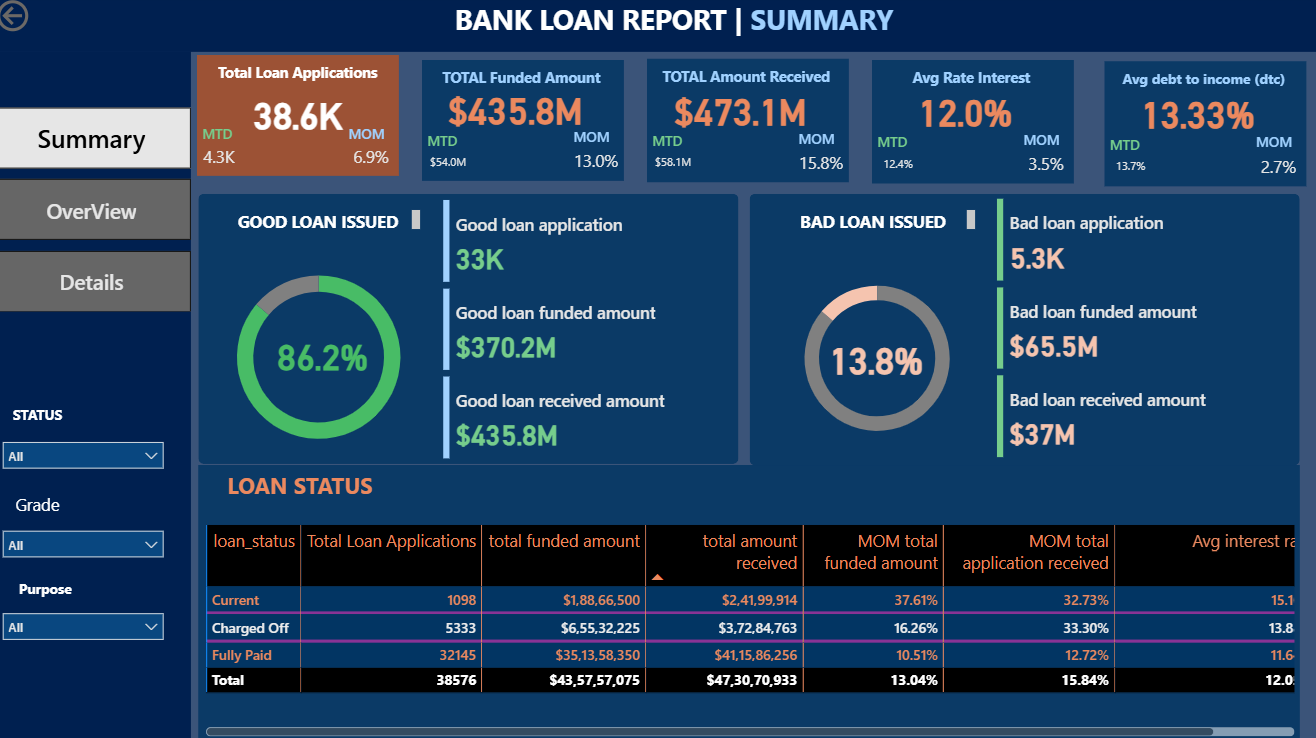

The dashboard page shown, as its layout file describes it:
{"tool":"powerbi","page":{"name":"Summary","canvas":[1280,720],"ordinal":0},"visuals":[{"type":"shape","box":[197.6,57.6,194.9,116.6],"z":0,"group":"g8"},{"type":"shape","box":[631.9,61.7,194.8,119.4],"z":0,"group":"g10"},{"type":"shape","box":[414.8,63.1,194.9,116.6],"z":0,"group":"g9"},{"type":"shape","box":[849.1,63.1,194.8,119.4],"z":0,"group":"g11"},{"type":"shape","box":[1073.1,64.5,194.8,120.8],"z":0,"group":"g12"},{"type":"shape","box":[731.4,192.1,531,262.1],"z":0},{"type":"card","fields":{"Values":["Bank_loan_db.total amount received"]},"box":[625,85.6,194.8,49.2],"z":1000,"group":"g1"},{"type":"card","fields":{"Values":["Bank_loan_db.total funded amount"]},"box":[407.9,86.4,194.9,48],"z":1000,"group":"g2"},{"type":"card","fields":{"Values":["Bank_loan_db.Avg interest rate"]},"box":[842.2,87,194.8,49.2],"z":1000,"group":"g3"},{"type":"card","fields":{"Values":["Bank_loan_db.Avg dti"]},"box":[1066.2,88.6,194.8,49.7],"z":1000,"group":"g4"},{"type":"card","fields":{"Values":["Bank_loan_db.Total Loan Applications"]},"box":[197.6,90.5,194.9,48],"z":1000,"group":"g8"},{"type":"shape","box":[199,454.2,1063.5,266.2],"z":1000},{"type":"textbox","box":[194.9,60.3,199,30.2],"z":2000,"group":"g8"},{"type":"textbox","box":[629.1,64.5,199,30.9],"z":2000,"group":"g10"},{"type":"textbox","box":[412,65.8,199,30.2],"z":2000,"group":"g9"},{"type":"textbox","box":[846.3,65.9,199,30.9],"z":2000,"group":"g11"},{"type":"textbox","box":[1070.3,67.3,199,31.3],"z":2000,"group":"g12"},{"type":"card","fields":{"Values":["Bank_loan_db.Bad loan %"]},"box":[800,329.3,107,42.5],"z":2000},{"type":"card","title":"MTD","fields":{"Values":["Bank_loan_db.MTD Loan applications"]},"box":[197.6,123.5,42.5,50.8],"z":3000,"group":"g8"},{"type":"card","title":"MTD","fields":{"Values":["Bank_loan_db.MTD funded amount"]},"box":[415.1,131.7,50.8,46.7],"z":3000,"group":"g2"},{"type":"card","title":"MTD","fields":{"Values":["Bank_loan_db.MTD total amount received"]},"box":[632.2,131.9,50.8,47.8],"z":3000,"group":"g5"},{"type":"card","title":"MTD","fields":{"Values":["Bank_loan_db.MTD avg int rate"]},"box":[849.4,133.3,50.8,47.8],"z":3000,"group":"g6"},{"type":"card","title":"MTD","fields":{"Values":["Bank_loan_db.MTD avg dti"]},"box":[1073.4,135.4,50.8,48.3],"z":3000,"group":"g7"},{"type":"donutChart","fields":{"Category":["Bank_loan_db.Good v/s Bad Loan"],"Y":["Bank_loan_db.Total Loan Applications"]},"box":[742.4,258,225,185.2],"z":3000},{"type":"card","title":"MOM","fields":{"Values":["Bank_loan_db.MOM loan application"]},"box":[339,123.5,53.5,50.8],"z":4000,"group":"g8"},{"type":"card","title":"MOM","fields":{"Values":["Bank_loan_db.MOM total funded amount"]},"box":[556.1,128.9,53.5,50.8],"z":4000,"group":"g2"},{"type":"card","title":"MOM","fields":{"Values":["Bank_loan_db.MOM total application received"]},"box":[773.3,129.1,53.5,52],"z":4000,"group":"g5"},{"type":"card","title":"MOM","fields":{"Values":["Bank_loan_db.MOM avg int rate"]},"box":[990.5,130.5,53.5,52],"z":4000,"group":"g6"},{"type":"card","title":"MOM","fields":{"Values":["Bank_loan_db.MOM avg dti"]},"box":[1214.5,132.6,53.5,52.6],"z":4000,"group":"g7"},{"type":"shape","box":[199,192.1,521.4,260.7],"z":4000},{"type":"group","id":"g1","title":"Group 2","box":[625,85.6,201.7,95.5],"z":4001,"group":"g10"},{"type":"group","id":"g2","title":"Group 2","box":[407.9,86.4,201.7,93.3],"z":4001,"group":"g9"},{"type":"group","id":"g3","title":"Group 2","box":[842.2,87,201.7,95.5],"z":4001,"group":"g11"},{"type":"group","id":"g4","title":"Group 2","box":[1066.2,88.6,201.7,96.6],"z":4001,"group":"g12"},{"type":"group","id":"g5","title":"Group 3","box":[632.2,129.1,194.6,52],"z":4002,"group":"g1"},{"type":"group","id":"g6","title":"Group 3","box":[849.4,130.5,194.6,52],"z":4002,"group":"g3"},{"type":"group","id":"g7","title":"Group 3","box":[1073.4,132.6,194.6,52.6],"z":4002,"group":"g4"},{"type":"shape","box":[0,0,1280.3,54.9],"z":5000},{"type":"shape","box":[0,54.9,192.1,665.5],"z":6000},{"type":"textbox","box":[219.6,203.1,199,30.2],"z":7000},{"type":"card","fields":{"Values":["Bank_loan_db.Good loan %"]},"box":[263.5,323.8,112.5,48],"z":8000},{"type":"textbox","box":[441.9,0,439.1,50.8],"z":9000},{"type":"group","id":"g8","title":"Group 1","box":[194.9,57.6,199,116.6],"z":10000},{"type":"group","id":"g9","title":"Group 1","box":[407.9,63.1,203.1,116.6],"z":11000},{"type":"group","id":"g10","title":"Group 1","box":[625,61.7,203.1,119.4],"z":12000},{"type":"group","id":"g11","title":"Group 1","box":[842.2,63.1,203.1,119.4],"z":13000},{"type":"group","id":"g12","title":"Group 1","box":[1066.2,64.5,203.1,120.8],"z":14000},{"type":"donutChart","fields":{"Category":["Bank_loan_db.Good v/s Bad Loan"],"Y":["Bank_loan_db.Total Loan Applications"]},"box":[190.7,245.6,249.7,207.2],"z":15000},{"type":"cardVisual","fields":{"Data":["Bank_loan_db.Good loan application","Bank_loan_db.Good loan funded amount","Bank_loan_db.Good loan received amount"]},"box":[430.9,193.5,289.5,259.3],"z":16000},{"type":"cardVisual","fields":{"Data":["Bank_loan_db.Bad loan application","Bank_loan_db.Bad loan funded amount","Bank_loan_db.Bad loan received amount"]},"box":[964.7,192.1,289.5,259.3],"z":17000},{"type":"textbox","box":[754.7,203.1,199,30.2],"z":18000},{"type":"tableEx","fields":{"Values":["Bank_loan_db.loan_status","Bank_loan_db.Total Loan Applications","Bank_loan_db.total funded amount","Bank_loan_db.total amount received","Bank_loan_db.MOM total funded amount","Bank_loan_db.MOM total application received","Bank_loan_db.Avg interest rate","Bank_loan_db.Avg dti"]},"box":[200.3,506.3,1062.1,214.1],"z":19000},{"type":"actionButton","box":[0,0,100,40],"z":20000},{"type":"textbox","box":[197.6,454.2,199,41.2],"z":21000},{"type":"slicer","fields":{"Values":["Bank_loan_db.address_state"]},"box":[0,421.3,175.6,53.5],"z":22000},{"type":"textbox","box":[0,391.1,87.8,30.2],"z":23000},{"type":"slicer","fields":{"Values":["Bank_loan_db.grade"]},"box":[0,506.3,175.6,53.5],"z":24000},{"type":"textbox","box":[0,474.8,87.8,31.6],"z":25000},{"type":"slicer","fields":{"Values":["Bank_loan_db.purpose"]},"box":[0,585.9,175.6,53.5],"z":26000},{"type":"textbox","box":[5.5,558.5,90.6,28.8],"z":27000},{"type":"pageNavigator","box":[0,108.4,192.1,197.6],"z":28000}]}

Visuals, with their boxes in screenshot pixels (x1, y1, x2, y2), scaled from the page's 1280x720 canvas onto the 1316x738 screenshot:
shape: bbox(203, 59, 404, 179)
shape: bbox(650, 63, 850, 186)
shape: bbox(426, 65, 627, 184)
shape: bbox(873, 65, 1073, 187)
shape: bbox(1103, 66, 1304, 190)
shape: bbox(752, 197, 1298, 466)
card - Bank_loan_db.total amount received: bbox(643, 88, 843, 138)
card - Bank_loan_db.total funded amount: bbox(419, 89, 620, 138)
card - Bank_loan_db.Avg interest rate: bbox(866, 89, 1066, 140)
card - Bank_loan_db.Avg dti: bbox(1096, 91, 1296, 142)
card - Bank_loan_db.Total Loan Applications: bbox(203, 93, 404, 142)
shape: bbox(205, 466, 1298, 737)
textbox: bbox(200, 62, 405, 93)
textbox: bbox(647, 66, 851, 98)
textbox: bbox(424, 67, 628, 98)
textbox: bbox(870, 68, 1075, 99)
textbox: bbox(1100, 69, 1305, 101)
card - Bank_loan_db.Bad loan %: bbox(822, 338, 933, 381)
"MTD" card: bbox(203, 127, 247, 179)
"MTD" card: bbox(427, 135, 479, 183)
"MTD" card: bbox(650, 135, 702, 184)
"MTD" card: bbox(873, 137, 926, 186)
"MTD" card: bbox(1104, 139, 1156, 188)
donutChart - Bank_loan_db.Good v/s Bad Loan x Bank_loan_db.Total Loan Applications: bbox(763, 264, 995, 454)
"MOM" card: bbox(349, 127, 404, 179)
"MOM" card: bbox(572, 132, 627, 184)
"MOM" card: bbox(795, 132, 850, 186)
"MOM" card: bbox(1018, 134, 1073, 187)
"MOM" card: bbox(1249, 136, 1304, 190)
shape: bbox(205, 197, 741, 464)
"Group 2" group: bbox(643, 88, 850, 186)
"Group 2" group: bbox(419, 89, 627, 184)
"Group 2" group: bbox(866, 89, 1073, 187)
"Group 2" group: bbox(1096, 91, 1304, 190)
"Group 3" group: bbox(650, 132, 850, 186)
"Group 3" group: bbox(873, 134, 1073, 187)
"Group 3" group: bbox(1104, 136, 1304, 190)
shape: bbox(0, 0, 1315, 56)
shape: bbox(0, 56, 198, 737)
textbox: bbox(226, 208, 430, 239)
card - Bank_loan_db.Good loan %: bbox(271, 332, 387, 381)
textbox: bbox(454, 0, 906, 52)
"Group 1" group: bbox(200, 59, 405, 179)
"Group 1" group: bbox(419, 65, 628, 184)
"Group 1" group: bbox(643, 63, 851, 186)
"Group 1" group: bbox(866, 65, 1075, 187)
"Group 1" group: bbox(1096, 66, 1305, 190)
donutChart - Bank_loan_db.Good v/s Bad Loan x Bank_loan_db.Total Loan Applications: bbox(196, 252, 453, 464)
cardVisual - Bank_loan_db.Good loan application x Bank_loan_db.Good loan funded amount: bbox(443, 198, 741, 464)
cardVisual - Bank_loan_db.Bad loan application x Bank_loan_db.Bad loan funded amount: bbox(992, 197, 1289, 463)
textbox: bbox(776, 208, 981, 239)
tableEx - Bank_loan_db.loan_status x Bank_loan_db.Total Loan Applications: bbox(206, 519, 1298, 737)
actionButton: bbox(0, 0, 103, 41)
textbox: bbox(203, 466, 408, 508)
slicer - Bank_loan_db.address_state: bbox(0, 432, 181, 487)
textbox: bbox(0, 401, 90, 432)
slicer - Bank_loan_db.grade: bbox(0, 519, 181, 574)
textbox: bbox(0, 487, 90, 519)
slicer - Bank_loan_db.purpose: bbox(0, 601, 181, 655)
textbox: bbox(6, 572, 99, 602)
pageNavigator: bbox(0, 111, 198, 314)
